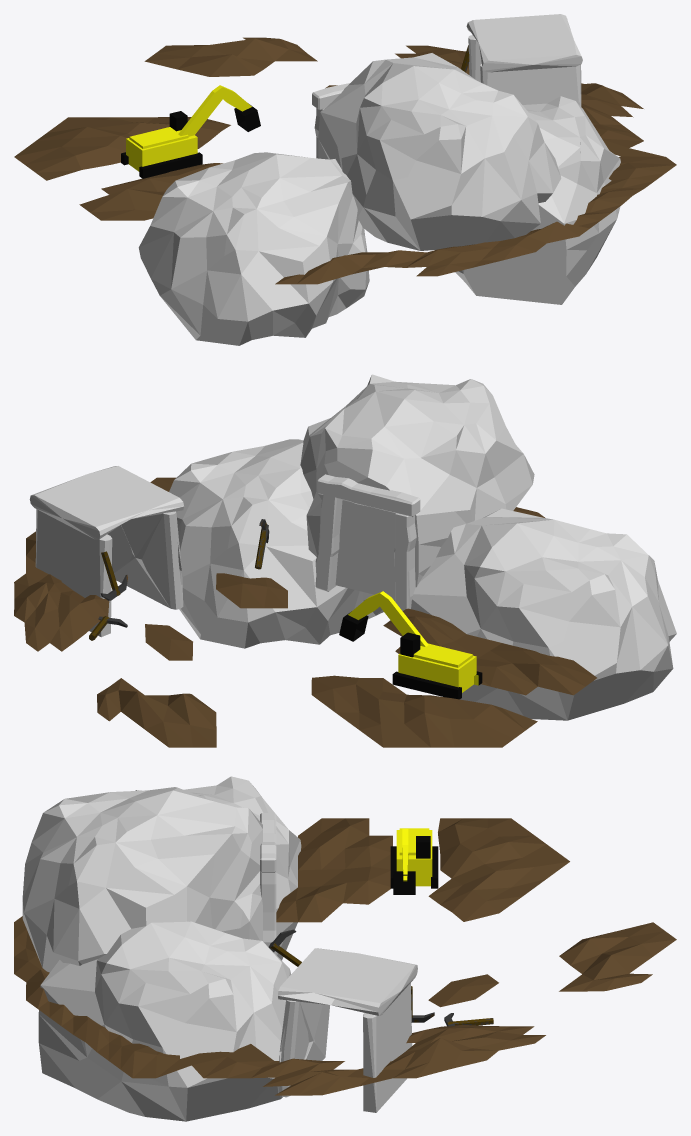
Rendered from Mine Add on.fbx.
3 renders of one model, top to bottom at view 1: azimuth 30°, elevation 25°; view 2: azimuth 150°, elevation 25°; view 3: azimuth 270°, elevation 25°, orthographic. The views are drawn at different scales.
Parts seen in each view (by area): view 1: Mine details, Mine, Excavator, Excavator arm, Entrance; view 2: Mine details, Mine, Entrance, Excavator, Excavator arm; view 3: Mine details, Mine, Excavator, Entrance, Excavator arm.
Boxes of the visible parts, x1,y1,x2,y2 form: Mine details: (14, 14, 676, 345); Mine: (318, 53, 561, 250); Excavator: (121, 111, 202, 178); Excavator arm: (178, 85, 260, 136); Entrance: (312, 83, 349, 158); Mine details: (14, 439, 676, 747); Mine: (300, 374, 534, 599); Entrance: (315, 474, 420, 611); Excavator: (392, 632, 482, 699); Excavator arm: (339, 591, 428, 646); Mine details: (14, 776, 676, 1121); Mine: (22, 787, 262, 972); Excavator: (390, 828, 438, 888); Entrance: (260, 813, 276, 954); Excavator arm: (393, 829, 415, 894).
Bounding box in the file's own units: 1.73 × 0.687 × 1.75.
